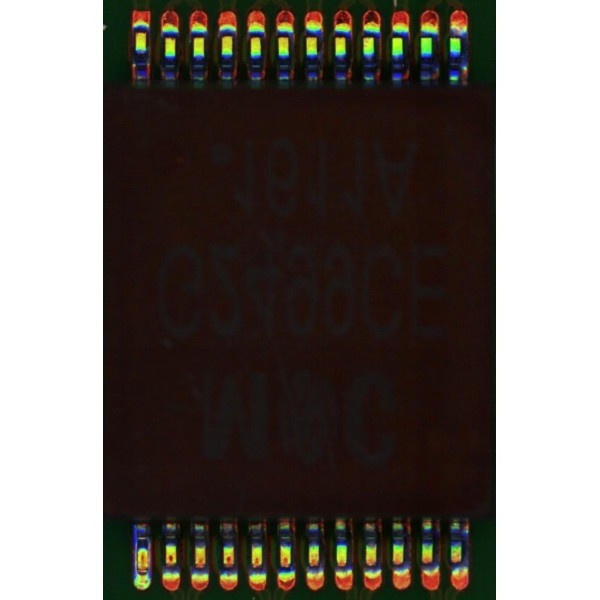Bad_qiaojiao: (134, 540, 138, 574)
